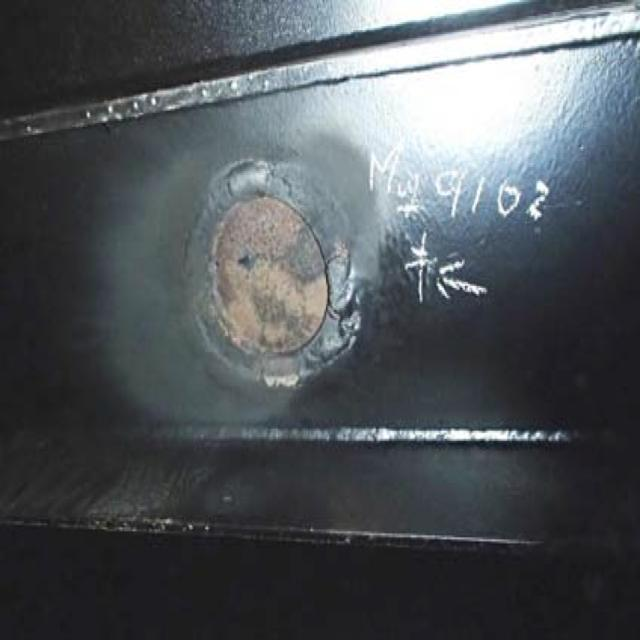corrosion: (187, 177, 356, 384)
